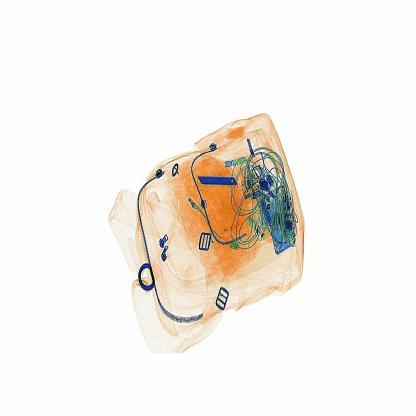pliers: (191, 166, 242, 199)
